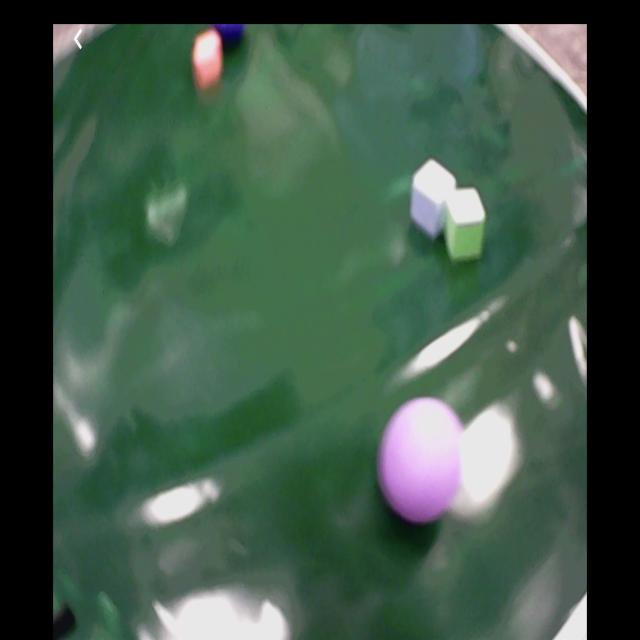ball: (383, 398, 464, 522), (217, 25, 248, 58)
